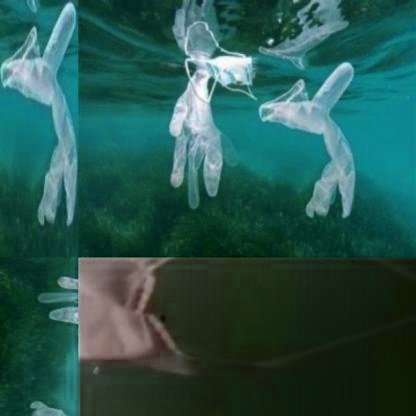Mask: (78, 258, 415, 398), (180, 52, 262, 101)
glove: (0, 0, 77, 229), (259, 60, 358, 220), (167, 69, 240, 209), (28, 356, 78, 416), (34, 272, 78, 332)
